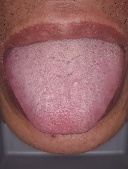tongue: (2, 43, 126, 135)
